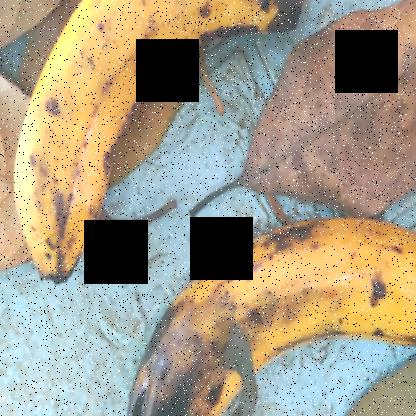overripe: (10, 0, 198, 299), (223, 183, 416, 415)
rotten: (121, 253, 298, 415), (178, 0, 320, 72)
